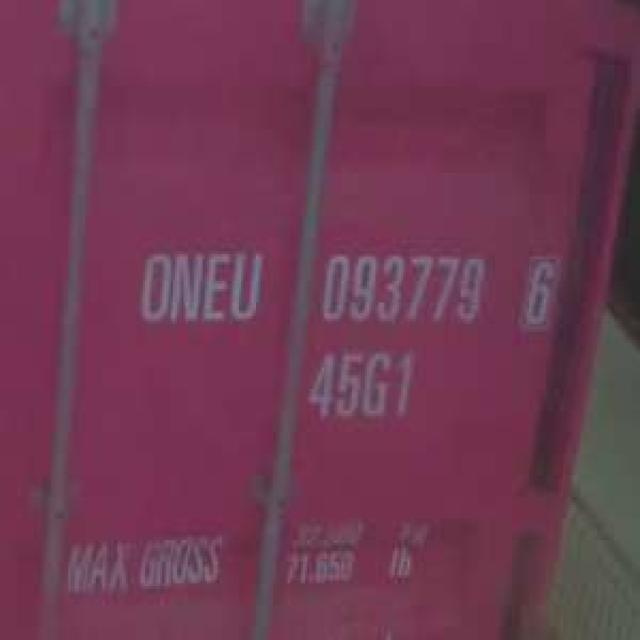dv: (515, 248, 561, 332)
owner: (134, 246, 265, 330)
serial: (317, 244, 491, 331)
size: (306, 344, 423, 424)
